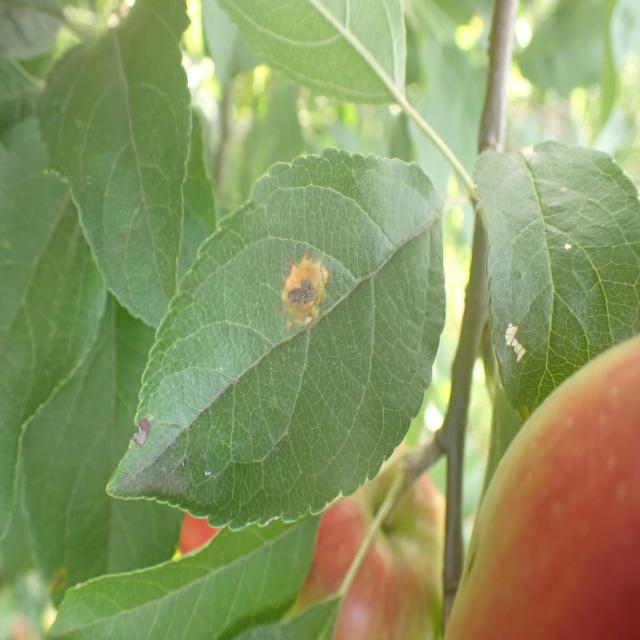rust: (105, 148, 448, 533)
